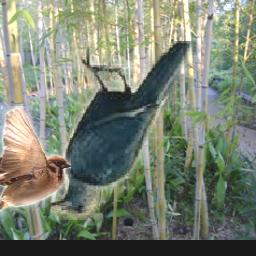Crow: (49, 42, 193, 221)
Sparrow: (0, 106, 70, 230)
